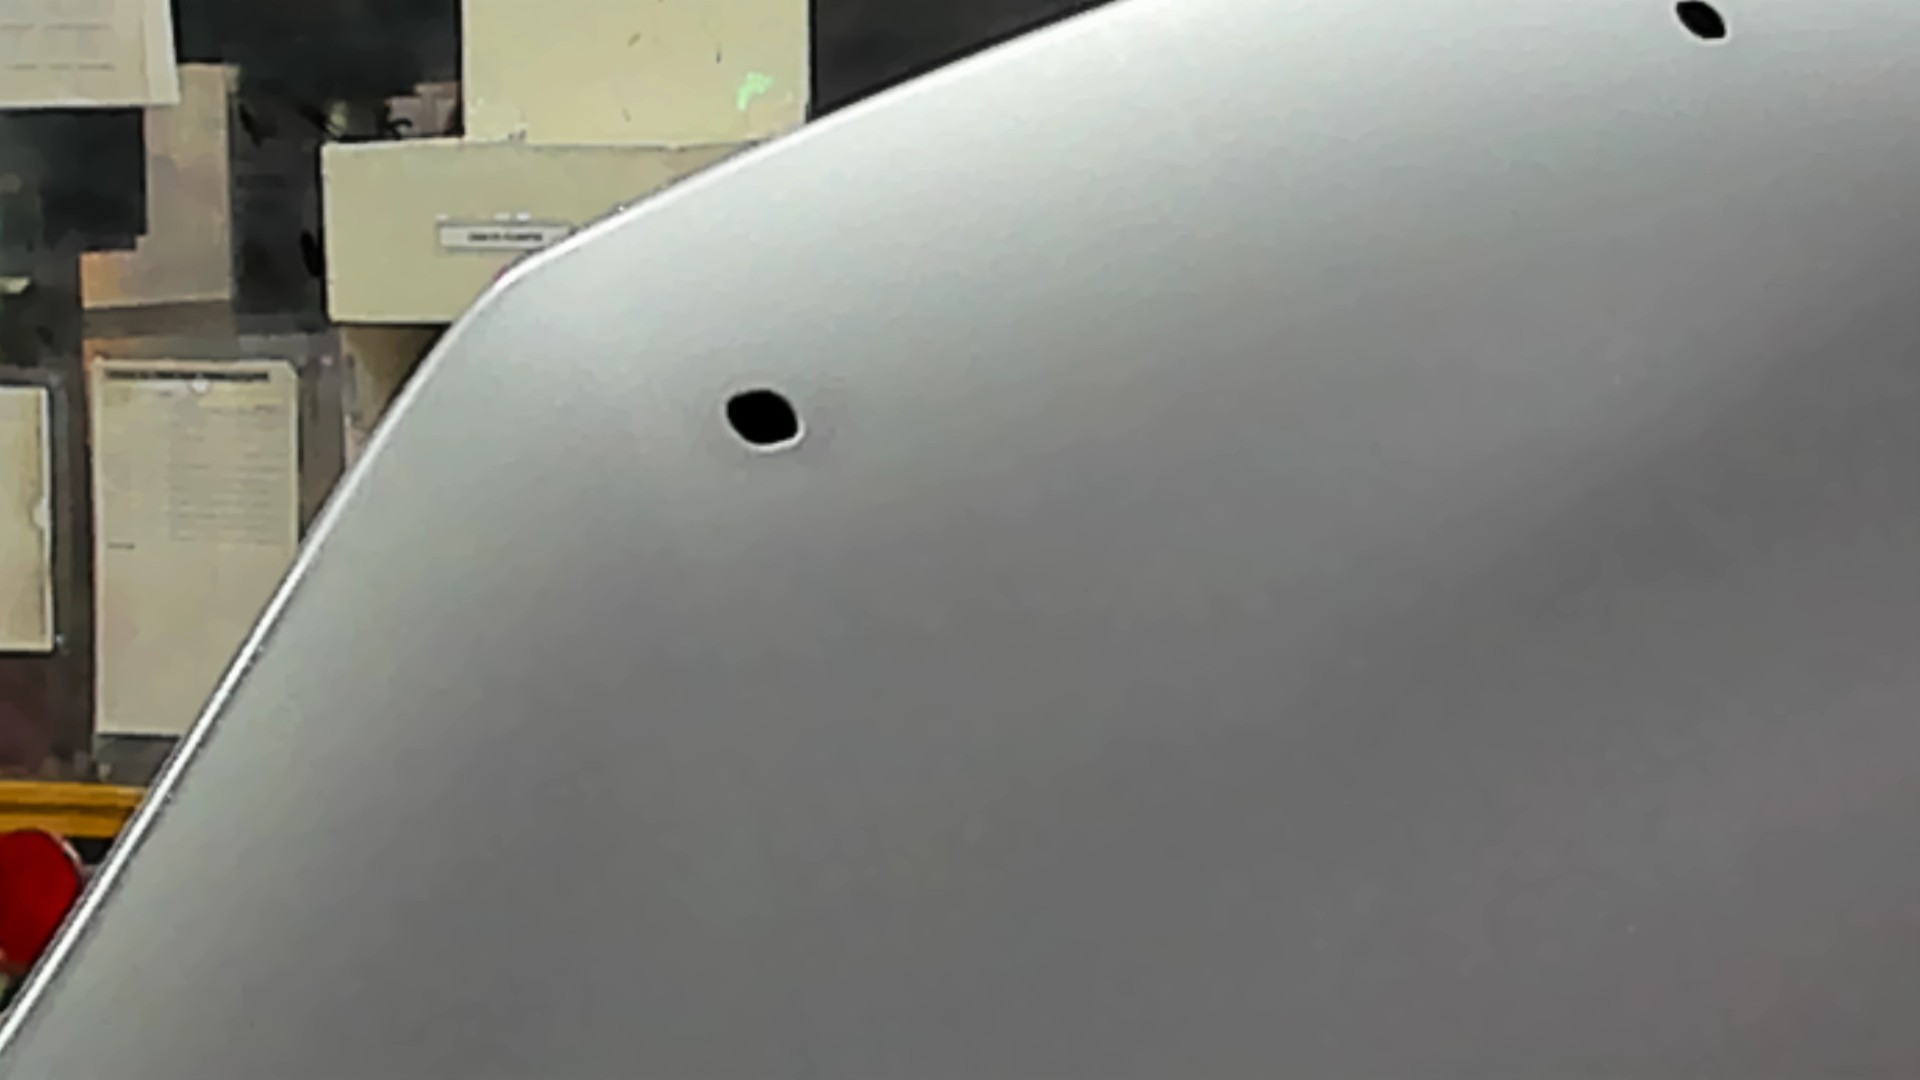chico: (709, 382, 820, 462), (1665, 1, 1753, 61)
